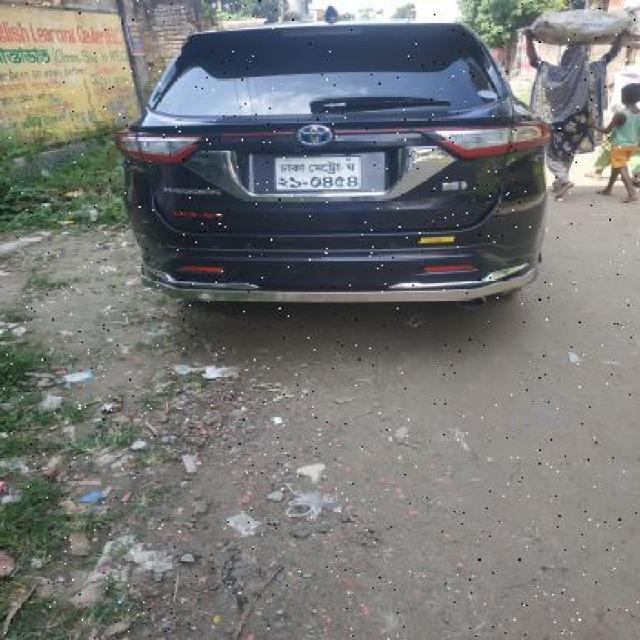numberplate: (245, 146, 392, 197), (271, 152, 363, 192)
